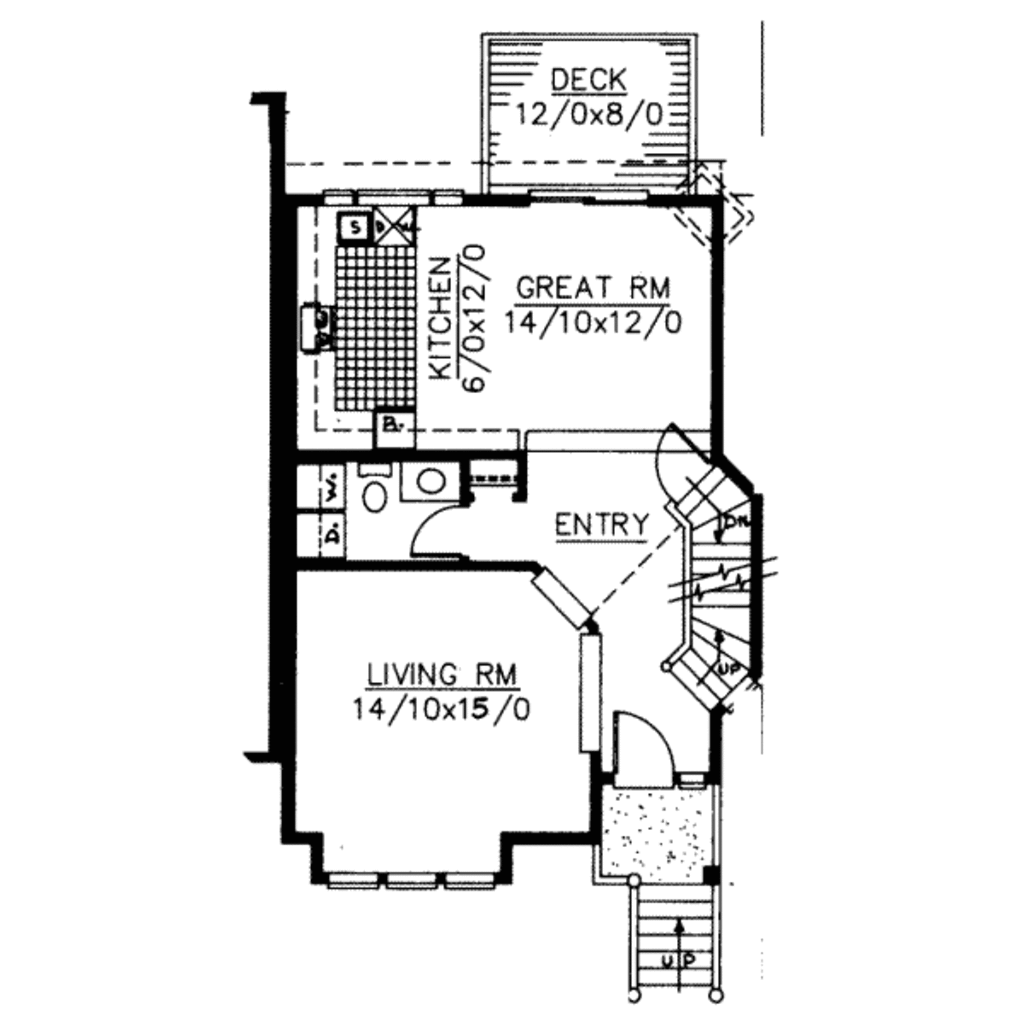door: (603, 707, 689, 802), (633, 422, 728, 494), (406, 499, 475, 571)
large_sink: (350, 456, 405, 511)
small_sink: (398, 457, 461, 503)
stairs: (667, 463, 792, 707), (622, 875, 754, 1024)
window: (320, 189, 464, 216), (438, 866, 500, 896), (388, 863, 445, 892), (325, 863, 375, 891)
